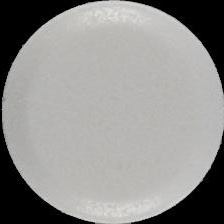52125-431: (0, 0, 224, 224)
